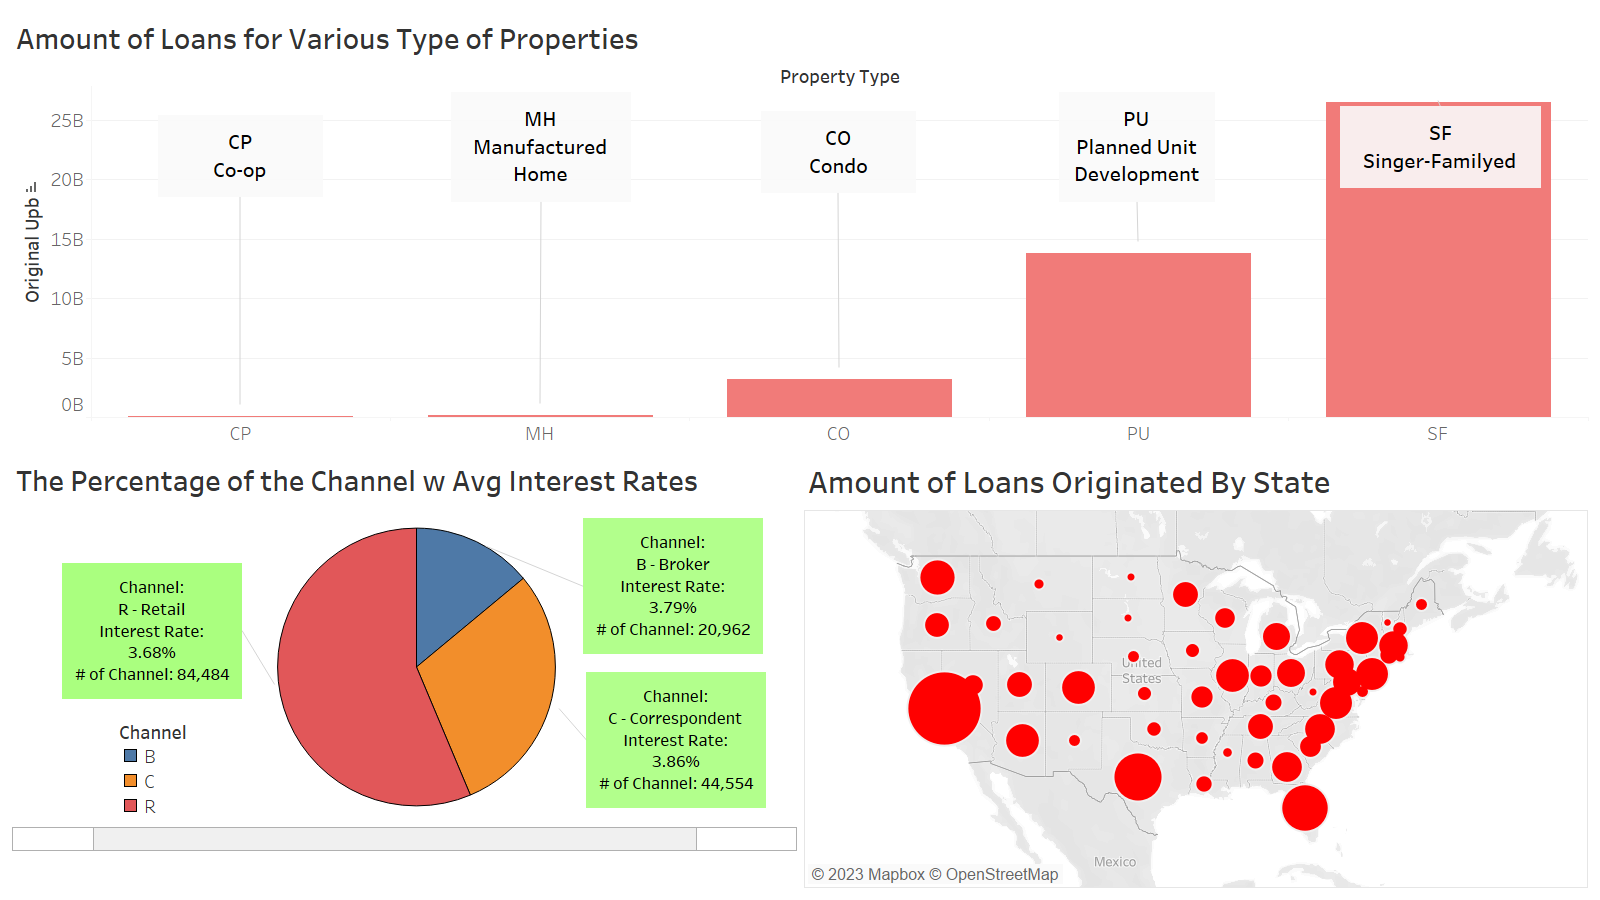

The page's visual inventory and layout, read from the dashboard file:
{"tool":"tableau","page":{"name":"Dashboard 1","canvas":[1600,900],"ordinal":0},"visuals":[{"type":"worksheet","title":"Sheet 4","mark":"Bar","rows":["ORIGINAL_UPB"],"cols":["PROPERTY_TYPE"],"box":[8,8,1584,441.9]},{"type":"worksheet","title":"Sheet 3","mark":"Pie","box":[8,449.9,792,442.1]},{"type":"worksheet","title":"Sheet 2","mark":"Automatic","box":[800,449.9,792,442.1]},{"type":"legend","title":"Sheet 3","param":"[federated.180ezgo0rtgi0k1g9oebm1ry9h3i].[none:CHANNEL:nk]","box":[56,733,140,101]}]}

Visuals, with their boxes in screenshot pixels (x1, y1, x2, y2), scaled from the page's 1600x900 canvas onto the 1600x900 screenshot:
"Sheet 4" worksheet (Bar marks): {"left": 8, "top": 8, "right": 1592, "bottom": 450}
"Sheet 3" worksheet (Pie marks): {"left": 8, "top": 450, "right": 800, "bottom": 892}
"Sheet 2" worksheet: {"left": 800, "top": 450, "right": 1592, "bottom": 892}
"Sheet 3" legend: {"left": 56, "top": 733, "right": 196, "bottom": 834}
